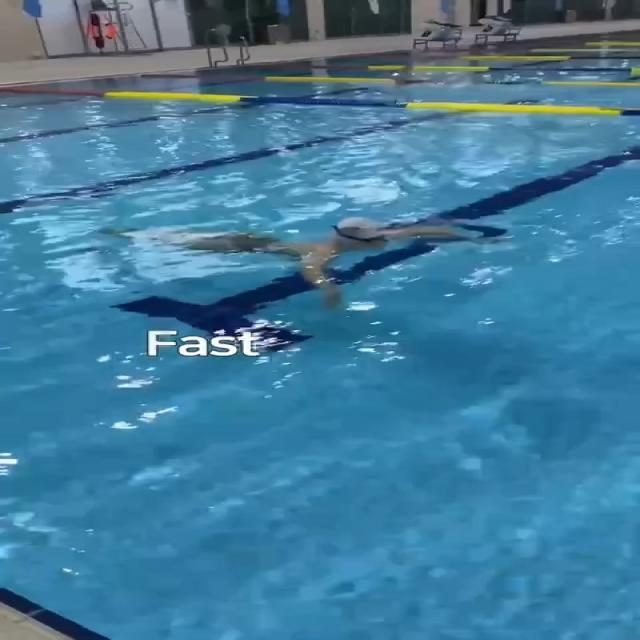Swimming: (116, 192, 517, 308)
